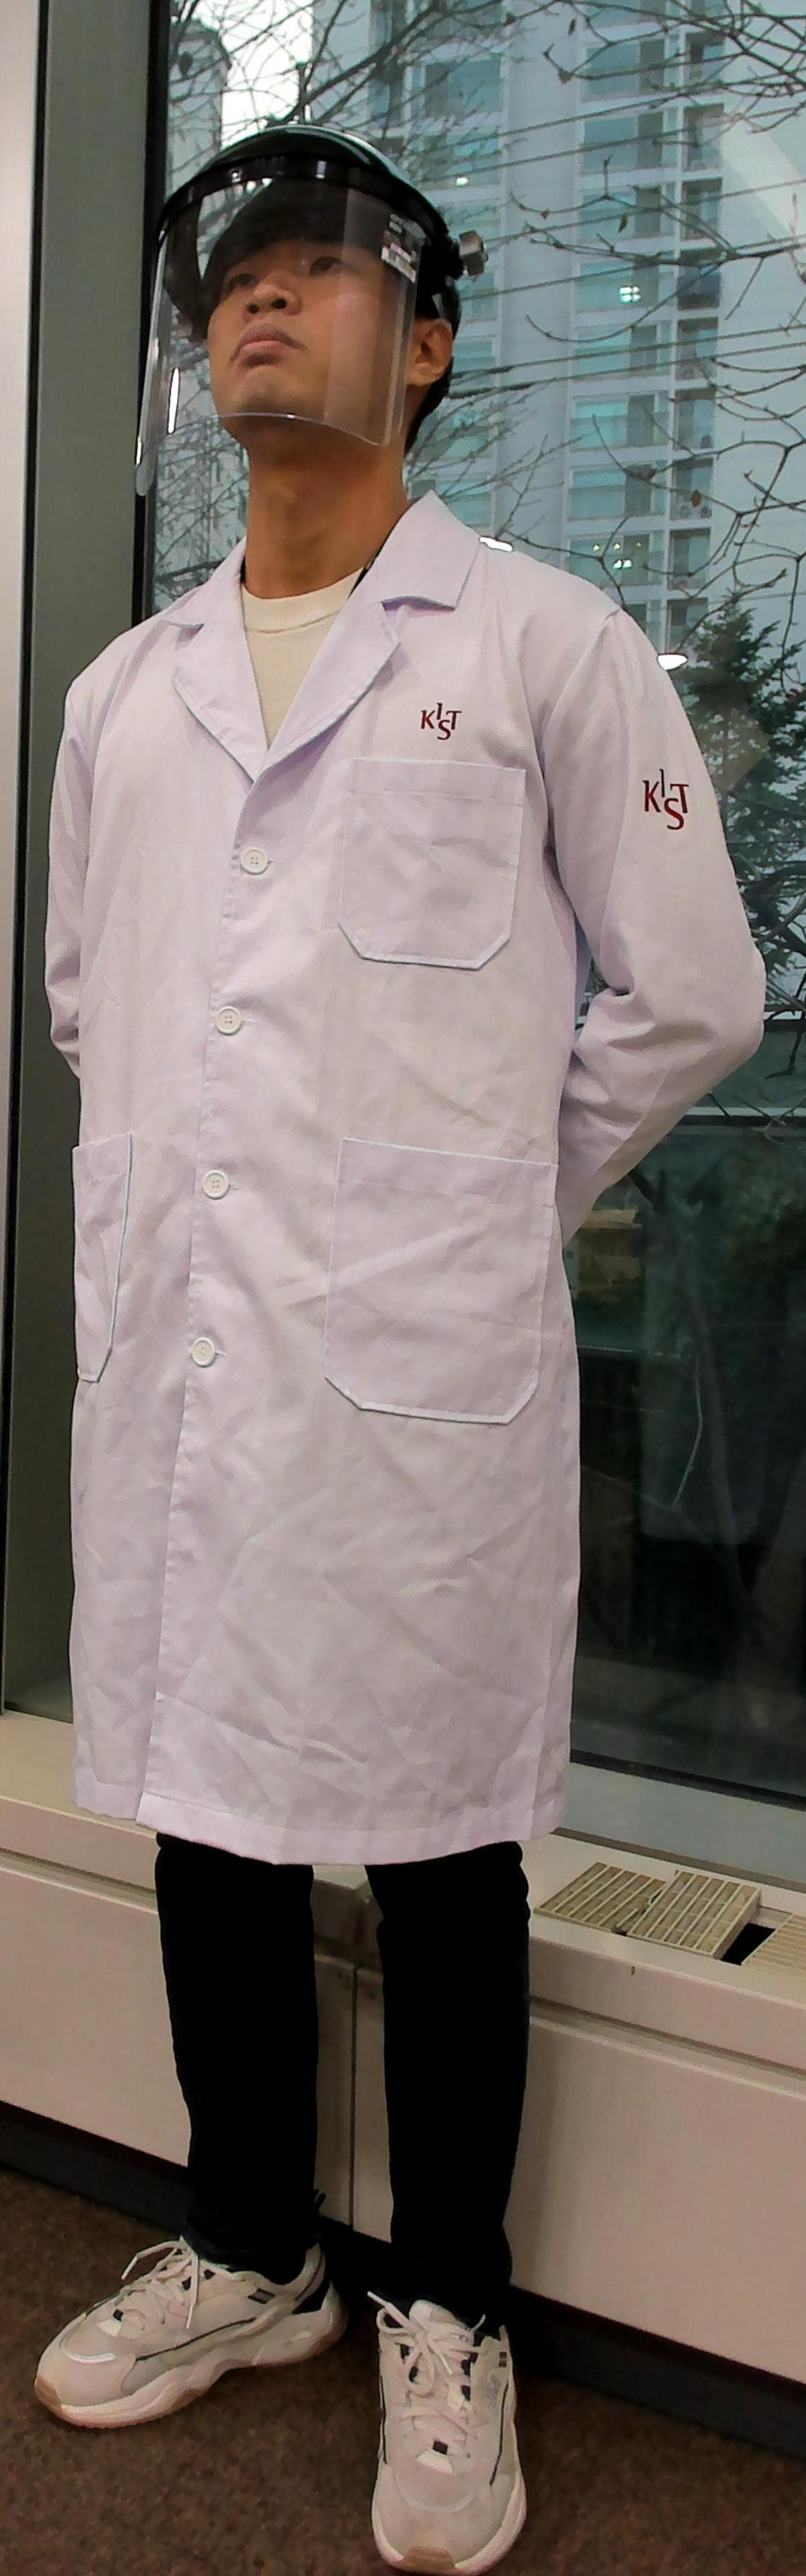lab_coat: (20, 591, 639, 1863)
